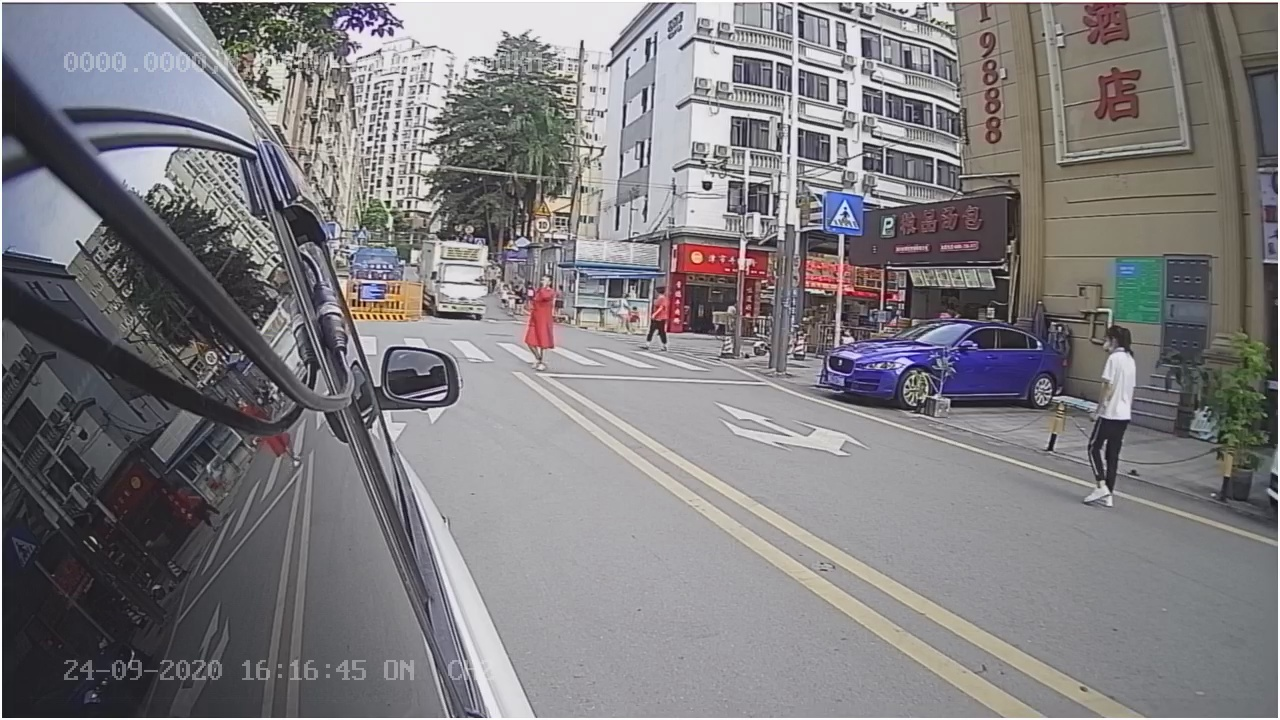person: (1067, 319, 1156, 527)
